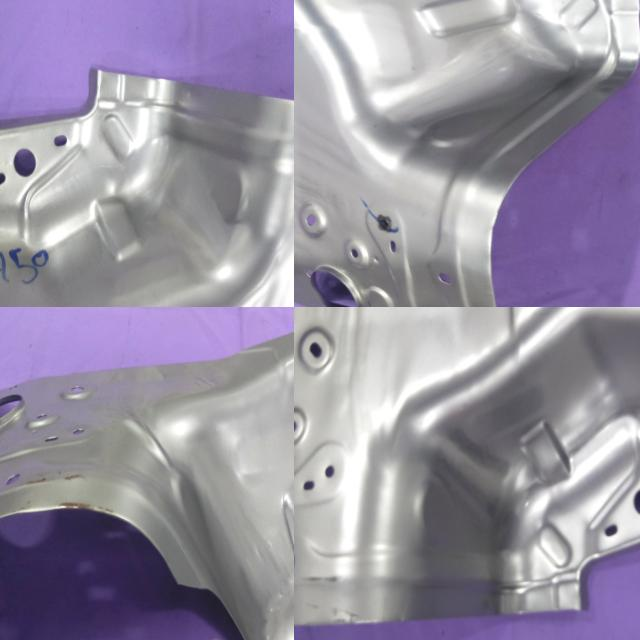Defect: (175, 581, 257, 640)
Healthy: (294, 0, 640, 307), (0, 59, 294, 307)
rust: (0, 454, 140, 535), (294, 572, 397, 625)
